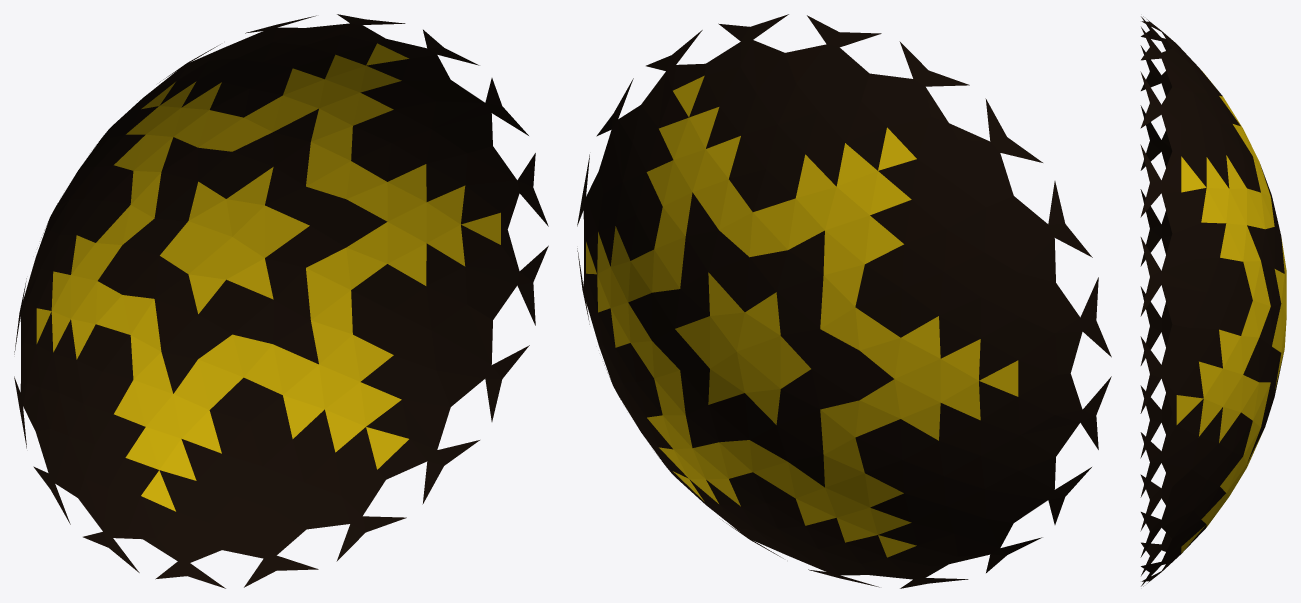
File: END_Separate.obj
3 views of the same model, side by side, from view 1: azimuth 30°, elevation 25°; view 2: azimuth 150°, elevation 25°; view 3: azimuth 270°, elevation 25° (orthographic). The views are drawn at different scales.
Visible parts, largest first — view 1: END; view 2: END; view 3: END.
Boxes of the visible parts, x1,y1,x2,y2 form: END: [14, 14, 548, 588]; END: [577, 14, 1111, 588]; END: [1140, 16, 1286, 586].
Size of the model in its own units: 6.83 by 6.76 by 1.73.
